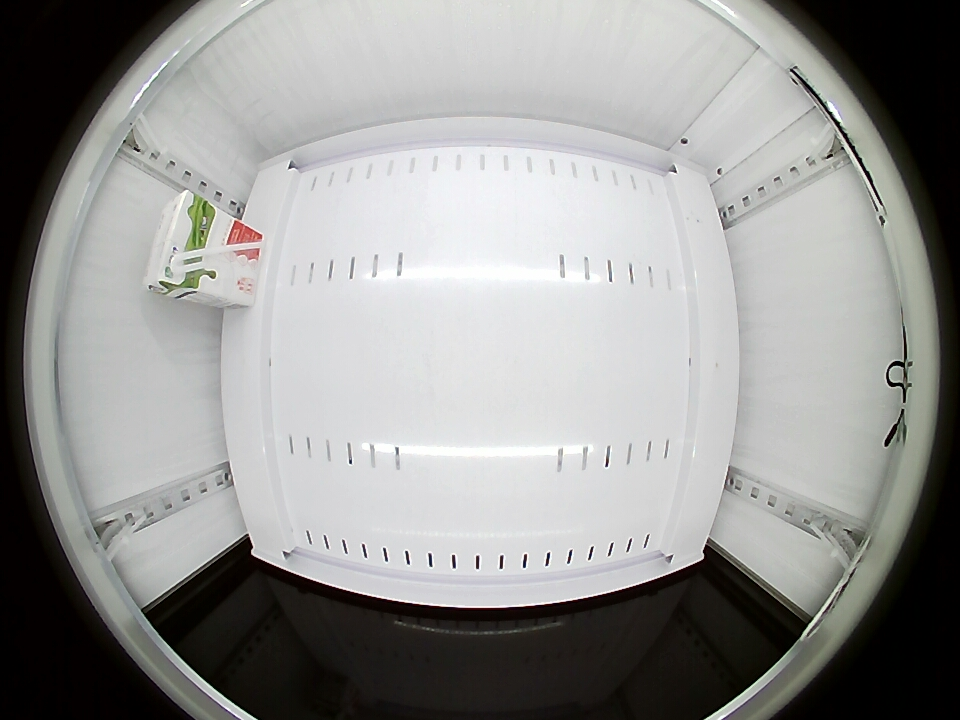mengniu: (144, 188, 214, 299)
